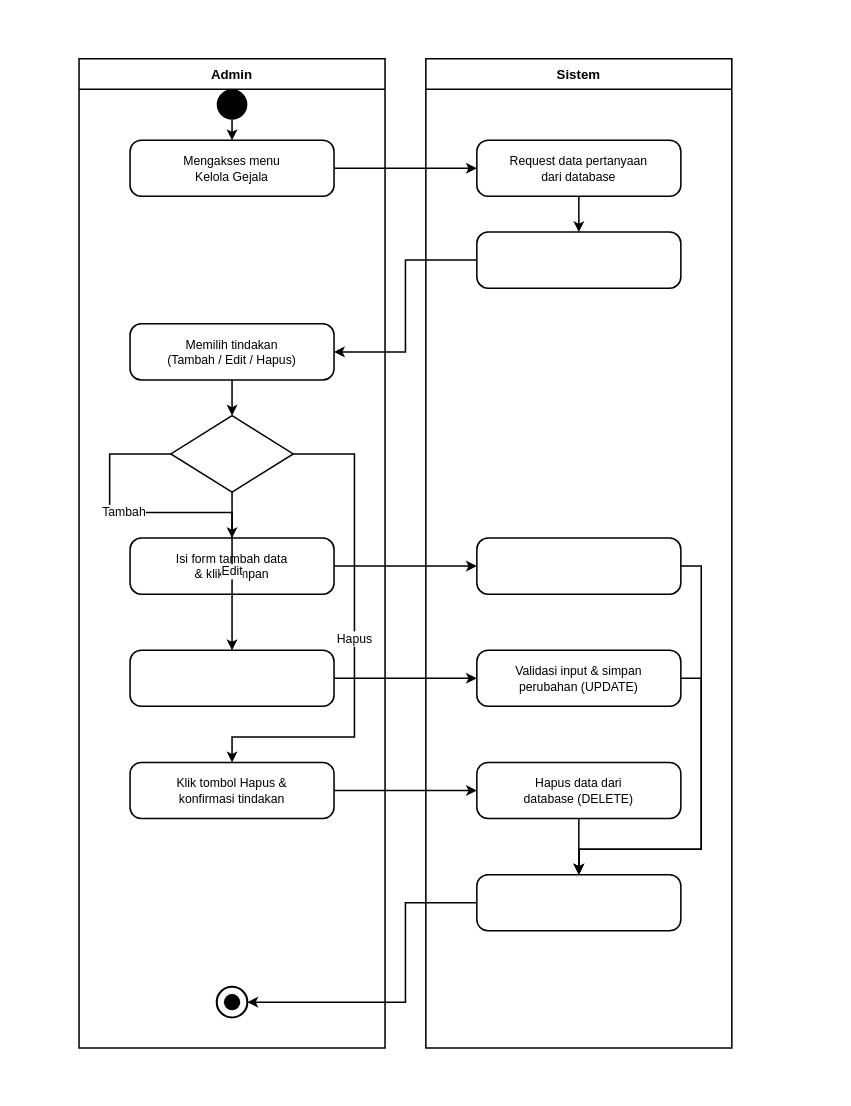
The diagram is 851 pixels wide and 1106 high, and some of its shapes have lost their labels. Each missing label, with the centre of its shape:
"Isi form edit data & klik Simpan" belongs at (231,678).
"Menampilkan daftar pertanyaan di dashboard" belongs at (578,259).
"Pilih Tindakan?" belongs at (232,453).
"Tampilkan pesan sukses dan refresh tabel" belongs at (578,902).
"Validasi input & simpan ke database (INSERT)" belongs at (578,565).
